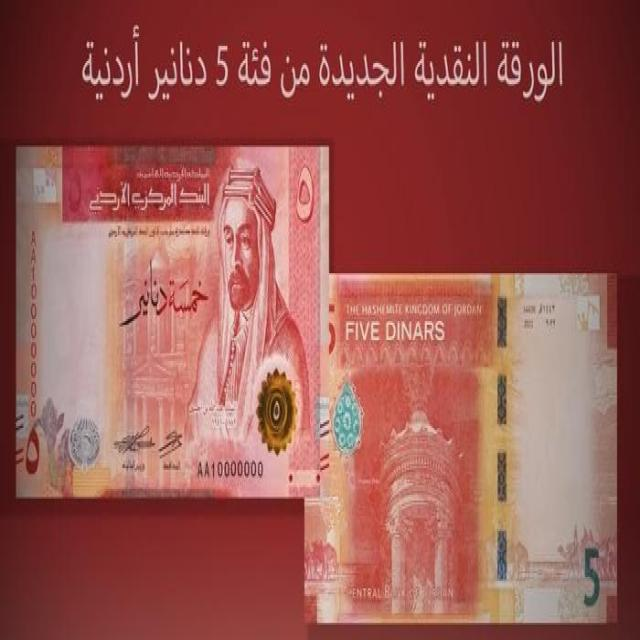5-dinar: (302, 273, 620, 623), (16, 146, 332, 498)
